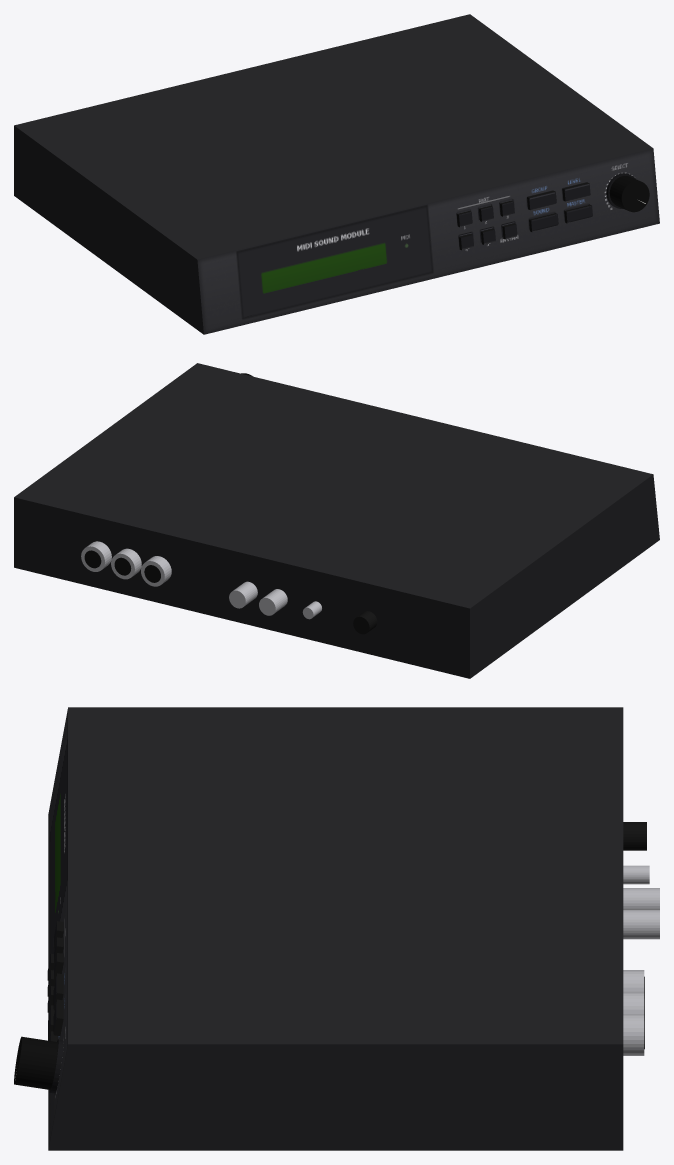
Rendered from midi-module-mt.obj.
3 views of the same model, one above another, from view 1: azimuth 30°, elevation 25°; view 2: azimuth 150°, elevation 25°; view 3: azimuth 270°, elevation 25° (orthographic). The views are drawn at different scales.
Parts seen in each view (by area): view 1: case_top, mt_front, case_side, knob_black, btn_black; view 2: case_top, case_rear, case_side, metal, btn_black; view 3: case_top, case_side, mt_front, metal, btn_black, knob_black.
Part boxes in pixels (left/top/right/bottom): case_top: left=14, top=14, right=652, bottom=259; mt_front: left=197, top=148, right=659, bottom=334; case_side: left=14, top=125, right=203, bottom=334; knob_black: left=609, top=176, right=649, bottom=212; btn_black: left=456, top=182, right=591, bottom=250; case_top: left=14, top=363, right=652, bottom=608; case_rear: left=14, top=497, right=469, bottom=678; case_side: left=470, top=474, right=659, bottom=678; metal: left=81, top=541, right=321, bottom=619; btn_black: left=84, top=550, right=377, bottom=634; case_top: left=68, top=707, right=623, bottom=1044; case_side: left=48, top=1044, right=623, bottom=1150; mt_front: left=47, top=709, right=67, bottom=1150; metal: left=623, top=865, right=659, bottom=1055; btn_black: left=47, top=822, right=646, bottom=1049; knob_black: left=14, top=1036, right=57, bottom=1089.
Bounding box in the file's own units: 305 × 44.97 × 247.
9 materials, 1 textured.
